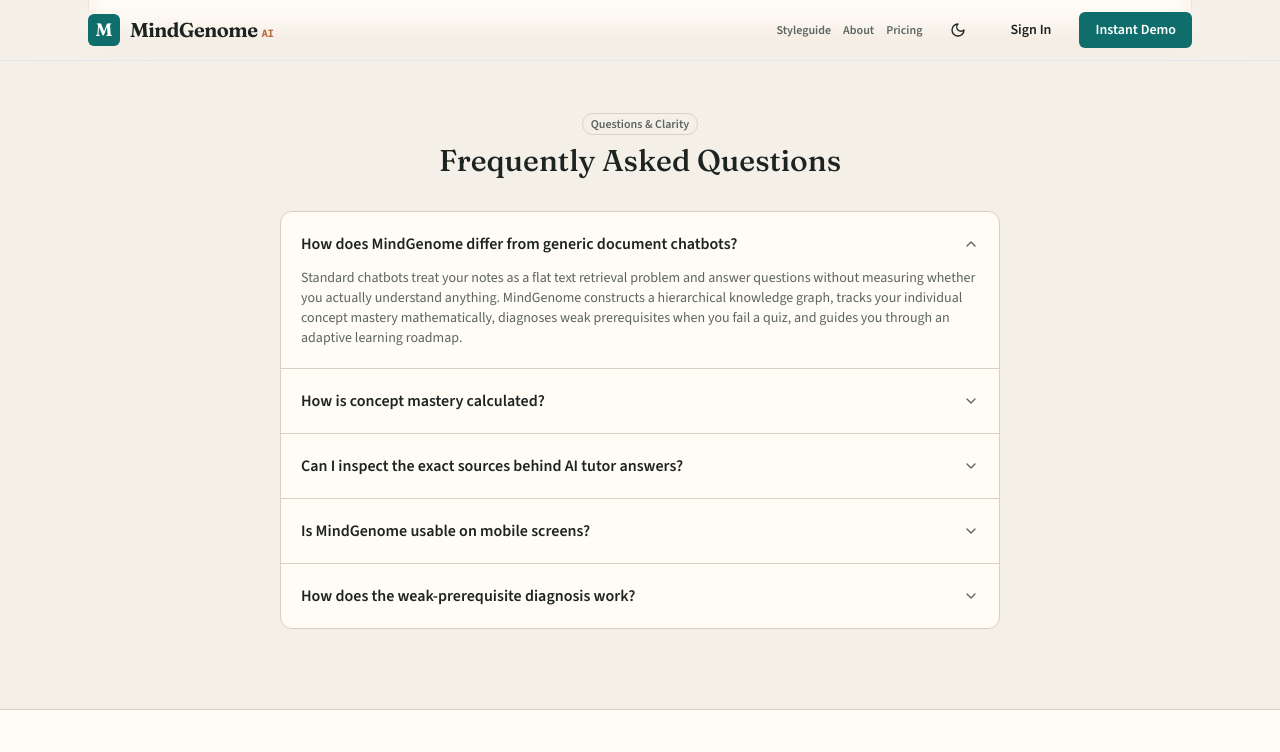
Test: LandingPage › expands and collapses FAQ items on user click
The image size is (1280, 752).
(page scrolled)
Check: the text "Standard chatbots treat your notes as a flat text retrieval problem" is shown, box [301, 268, 975, 346]
Click Question 2 to expand it
Click the button "How is concept mastery calculated?": (423, 400) [301, 388, 979, 412]
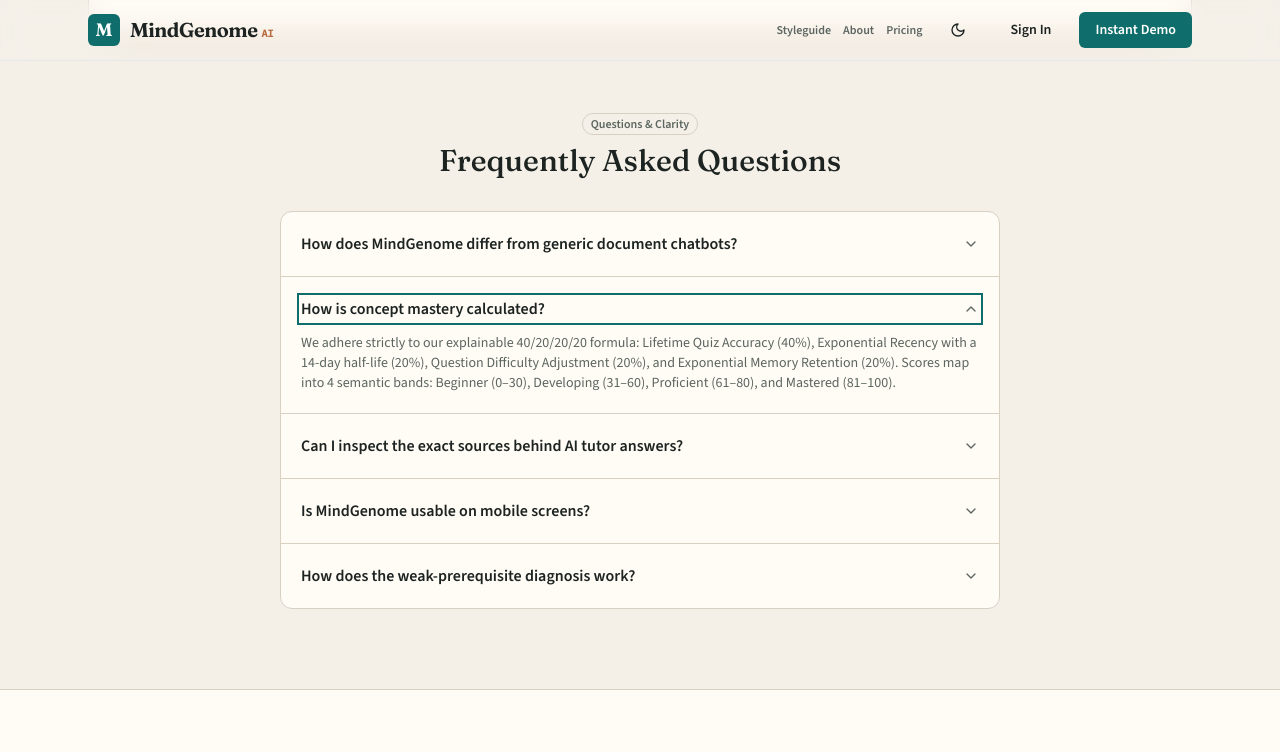
Check: the text "We adhere strictly to our explainable 40/20/20/20 formula" is shown, box [301, 332, 977, 392]
